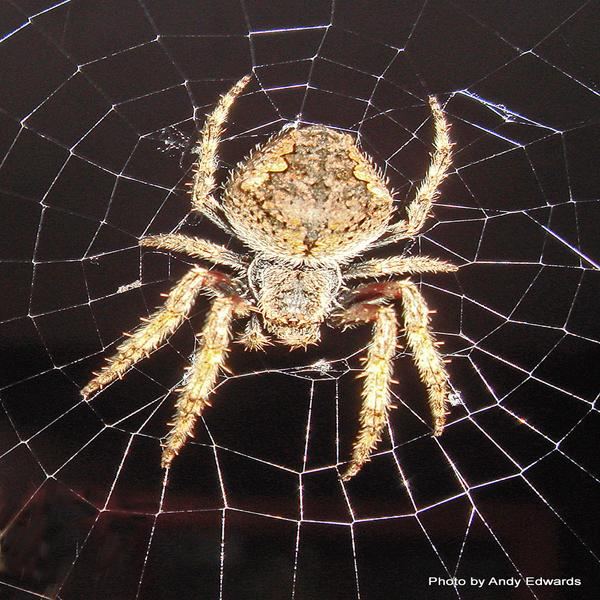Garden_Orb_Weaver_Spider: (80, 76, 451, 483)
